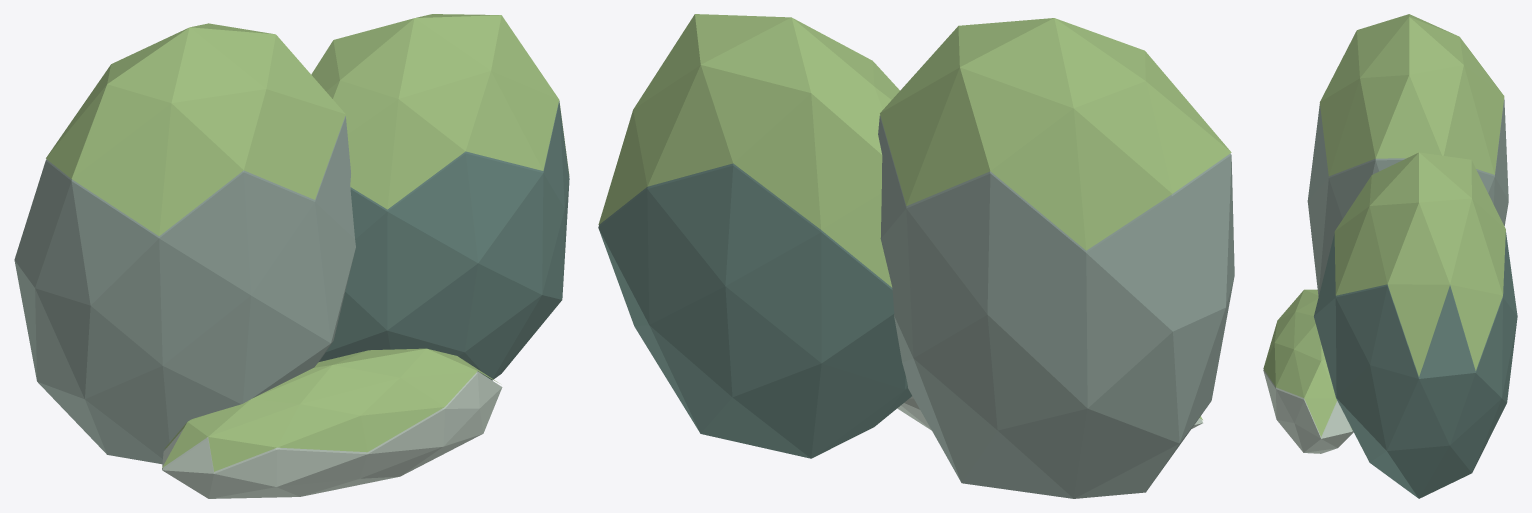
File: cliff-face-mossy.glb
3 views of the same model, side by side, from view 1: azimuth 30°, elevation 25°; view 2: azimuth 150°, elevation 25°; view 3: azimuth 270°, elevation 25° (orthographic). The views are drawn at different scales.
Visible parts, largest first — view 1: cliff-face-kit-mossy-top, cliff-face-kit-mossy-stone, cliff-face-kit-mossy-shade, cliff-face-kit-mossy-light; view 2: cliff-face-kit-mossy-top, cliff-face-kit-mossy-stone, cliff-face-kit-mossy-shade; view 3: cliff-face-kit-mossy-top, cliff-face-kit-mossy-shade, cliff-face-kit-mossy-stone, cliff-face-kit-mossy-light.
Boxes of the visible parts, x1,y1,x2,y2 form: cliff-face-kit-mossy-top: [46, 14, 569, 471]; cliff-face-kit-mossy-stone: [14, 116, 355, 464]; cliff-face-kit-mossy-shade: [319, 101, 569, 380]; cliff-face-kit-mossy-light: [162, 371, 502, 498]; cliff-face-kit-mossy-top: [598, 14, 1231, 420]; cliff-face-kit-mossy-stone: [878, 115, 1234, 498]; cliff-face-kit-mossy-shade: [598, 163, 911, 458]; cliff-face-kit-mossy-top: [1263, 14, 1505, 436]; cliff-face-kit-mossy-shade: [1314, 232, 1517, 498]; cliff-face-kit-mossy-stone: [1307, 98, 1508, 296]; cliff-face-kit-mossy-light: [1263, 370, 1353, 453].
Bounding box in the file's own units: 4.22 × 3.3 × 2.08.
